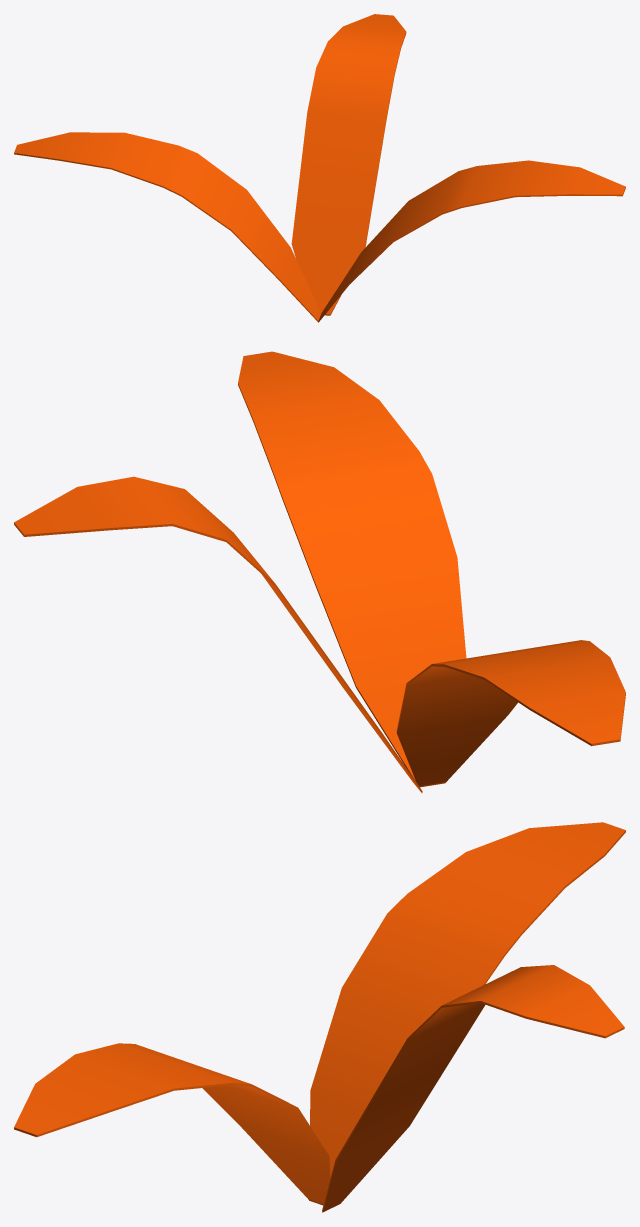
The model's file is Grass003.fbx.
3 renders of one model, top to bottom at view 1: azimuth 30°, elevation 25°; view 2: azimuth 150°, elevation 25°; view 3: azimuth 270°, elevation 25°, orthographic. The views are drawn at different scales.
Parts seen in each view (by area): view 1: Plane.002; view 2: Plane.002; view 3: Plane.002.
Part boxes in pixels (left/top/right/bottom): Plane.002: left=14, top=14, right=625, bottom=322; Plane.002: left=14, top=351, right=625, bottom=792; Plane.002: left=14, top=822, right=625, bottom=1212.
Bounding box in the file's own units: 61.52 × 27.73 × 50.85.
Materials: 1 (1 with a texture image).
